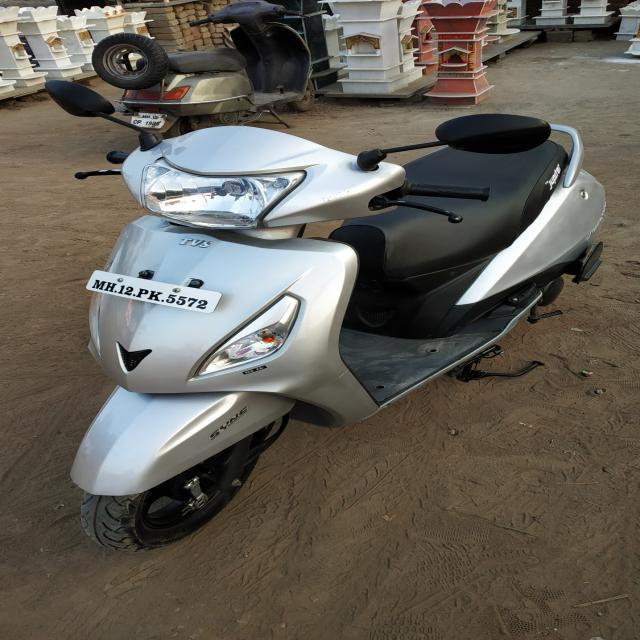number plate: (84, 269, 222, 313), (128, 112, 166, 129)
